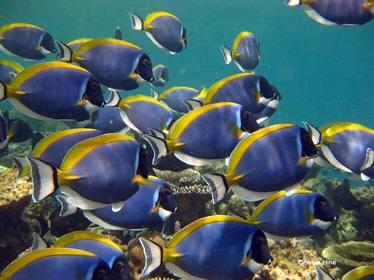Acanthuridae -Surgeonfishes-: (201, 120, 327, 204), (30, 132, 150, 210), (132, 217, 279, 278), (144, 101, 259, 163), (0, 58, 107, 120), (49, 35, 155, 88), (231, 186, 340, 236), (128, 4, 198, 55)
